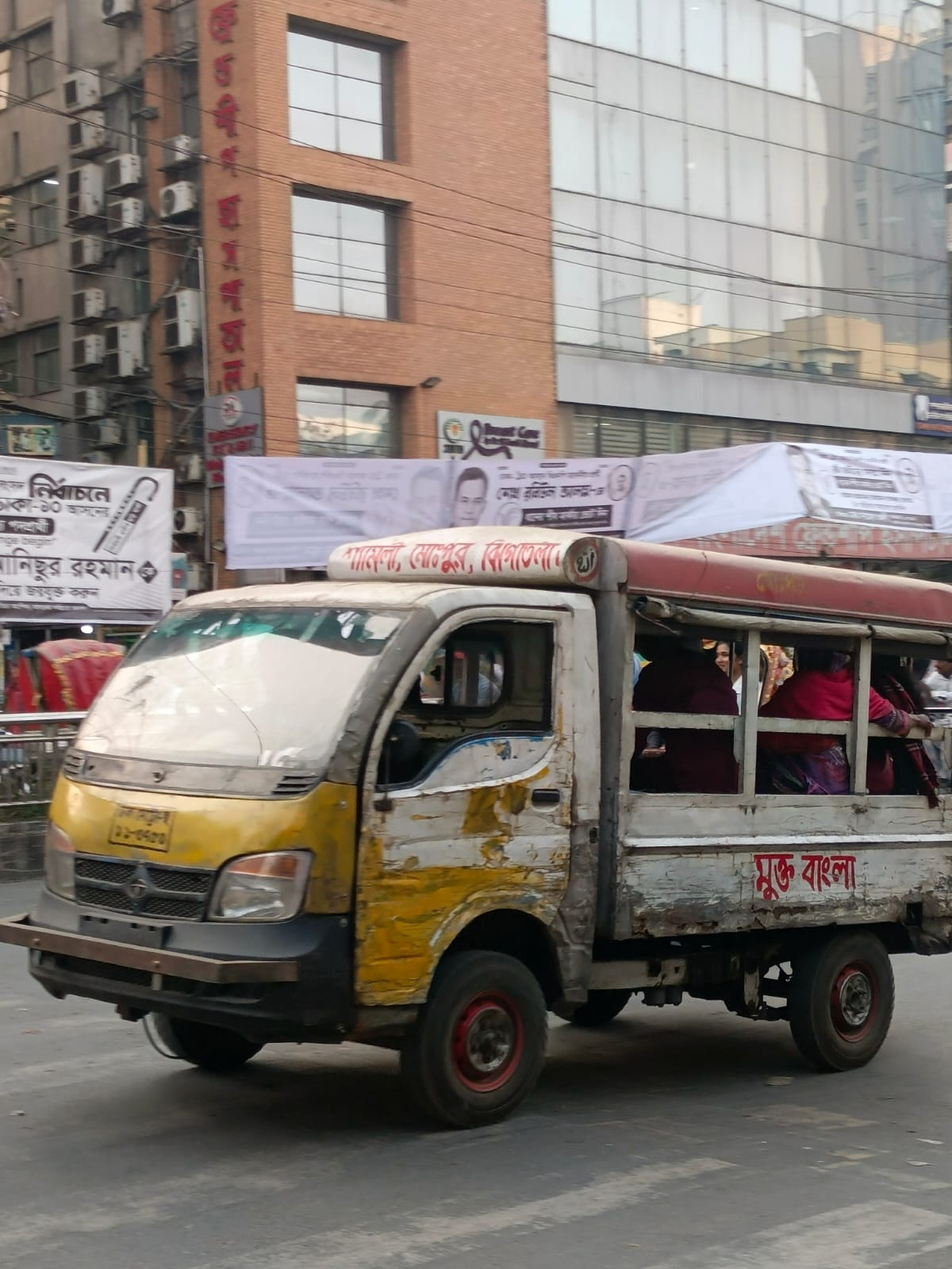Leguna: (26, 513, 952, 1086)
